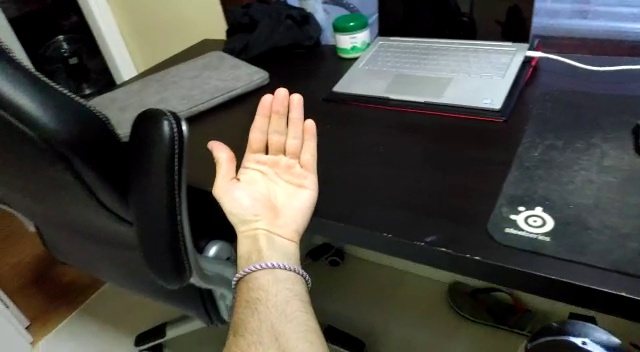Palm: (204, 86, 323, 242)
